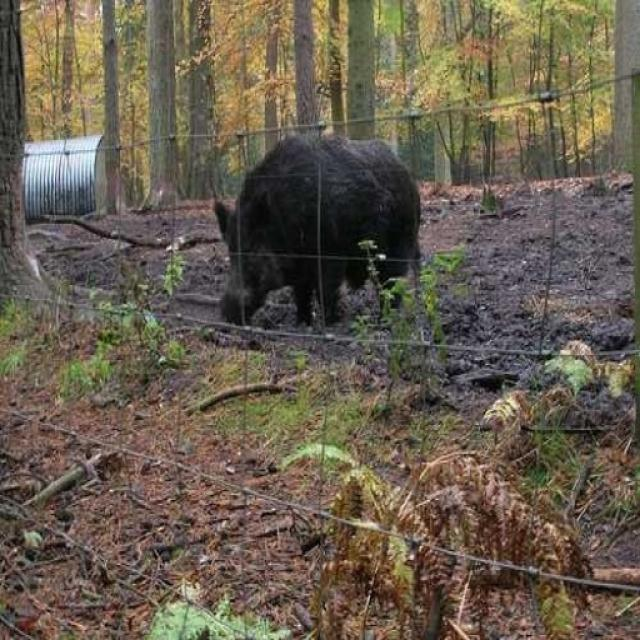pig: (205, 118, 450, 354)
